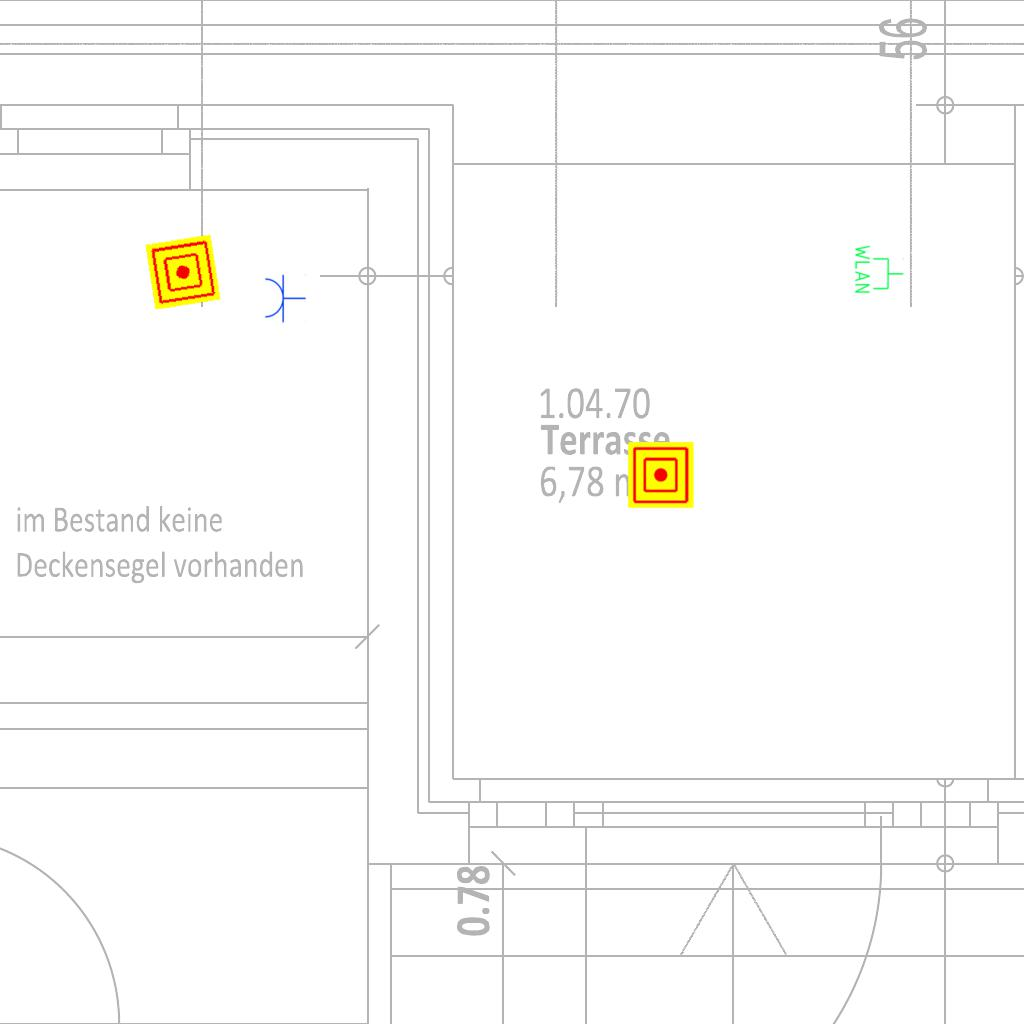NAM-Nichtautomatischer_Melder: (145, 234, 221, 310), (628, 442, 694, 508)
Schukosteckdose_einfach: (263, 273, 306, 323)
WLAN: (853, 243, 905, 295)
